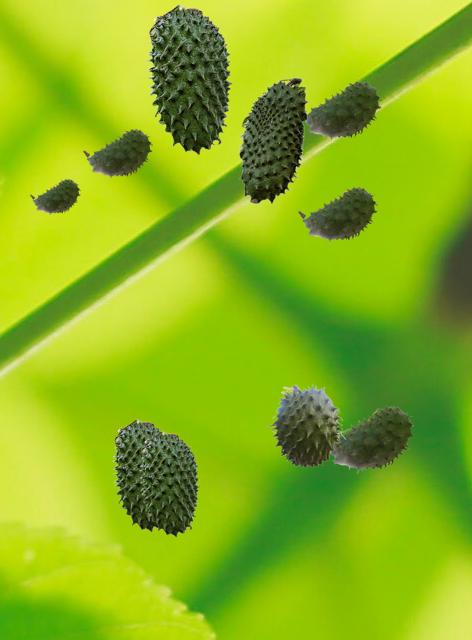guyabano: (146, 3, 232, 154), (238, 77, 307, 203), (267, 383, 349, 467), (139, 430, 199, 536), (112, 418, 162, 531), (331, 406, 413, 472), (305, 81, 380, 140), (298, 187, 376, 242), (83, 129, 151, 178), (30, 179, 79, 214)
